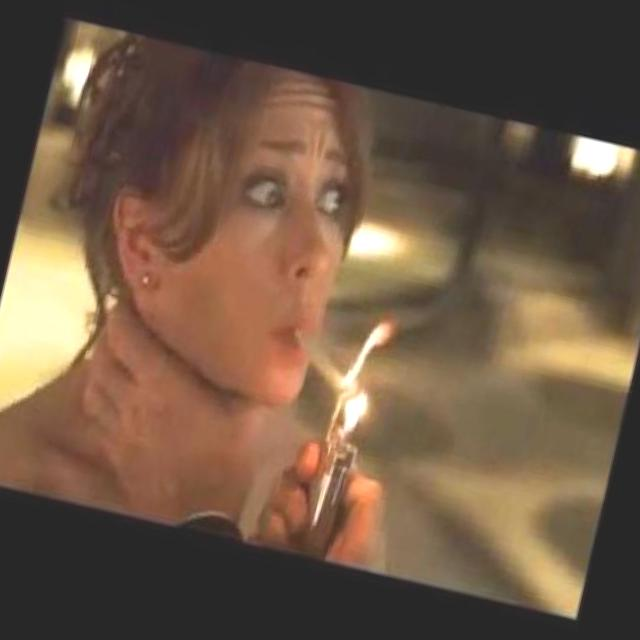cigarette: (284, 326, 364, 406)
